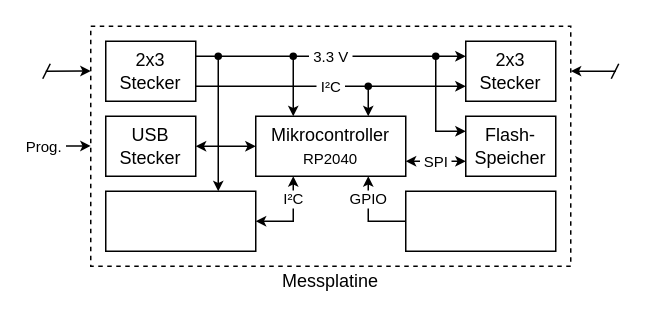
Some shapes in this 651 by 323 pixel diagram are drawn without their labels. Each missing label, with the box of its shape:
Addresswahl DIP-Schalter: (404, 190, 556, 251)
Infrarot-Sensor AMG8834: (104, 190, 256, 251)
